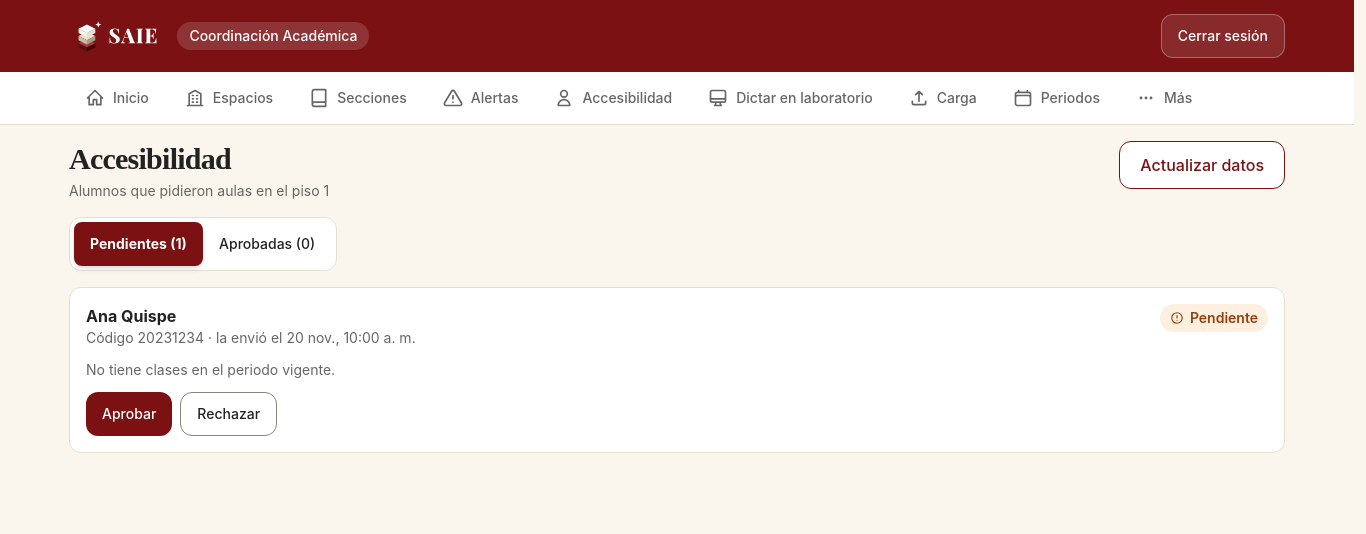
it: AccesibilidadAdminPage (Issue 3.60) › muestra el vacío de las aprobadas y el aviso sin clases en el periodo
The width and height of the screenshot is (1366, 534).
Expected: the text "No tiene clases en el periodo vigente." is shown, [86, 361, 335, 378]
What coordinates should you click on to do the following:
click the button "Aprobadas (0)"
I would click on:
 (267, 244)
Its box is [203, 222, 332, 266].
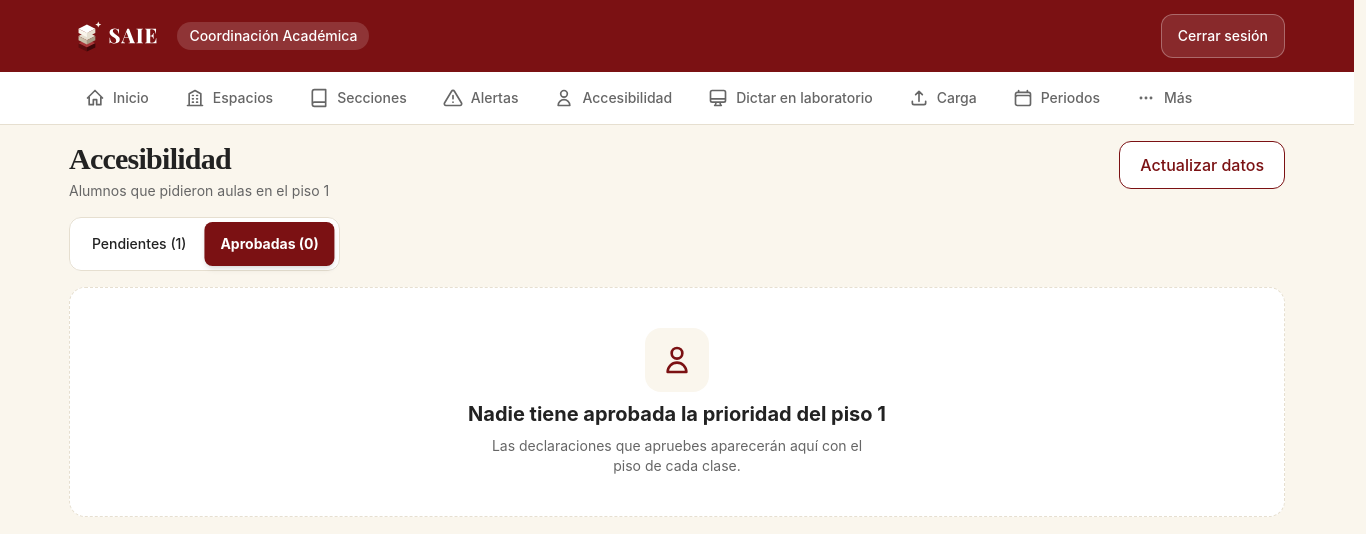
Now the heading "Nadie tiene aprobada la prioridad del piso 1" is shown, box [468, 400, 886, 428]
